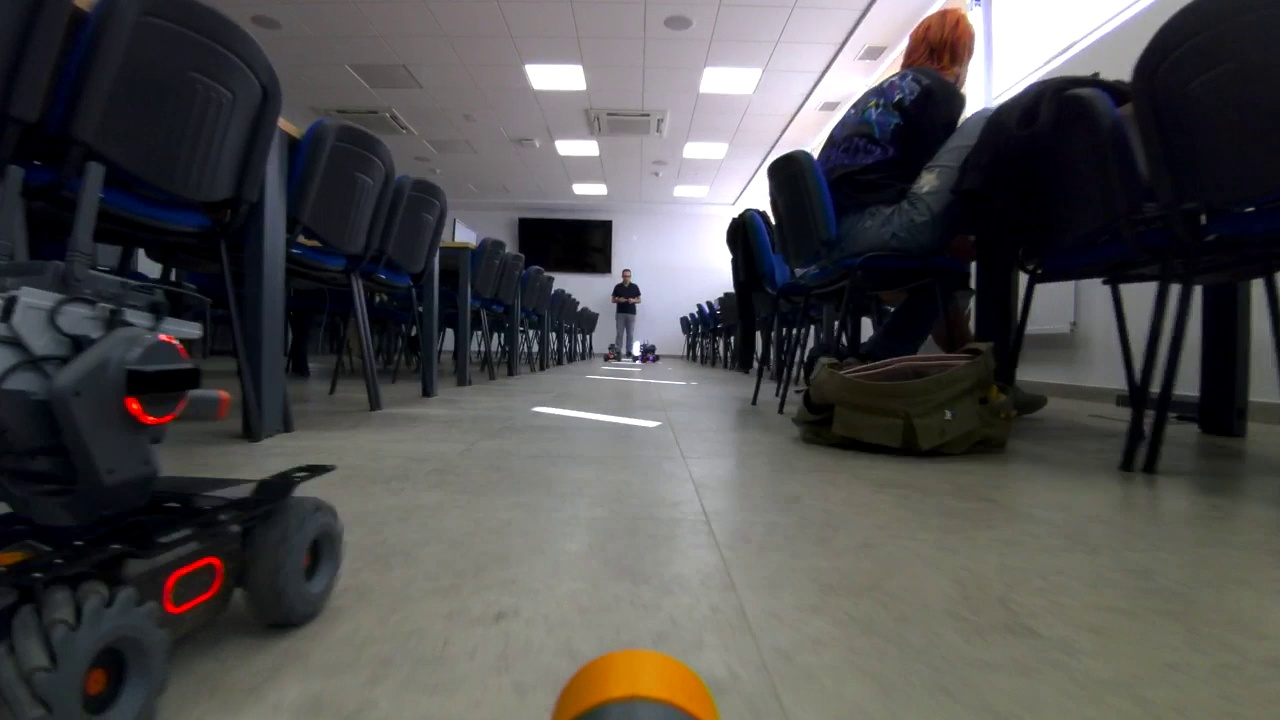robot: (1, 253, 348, 717)
